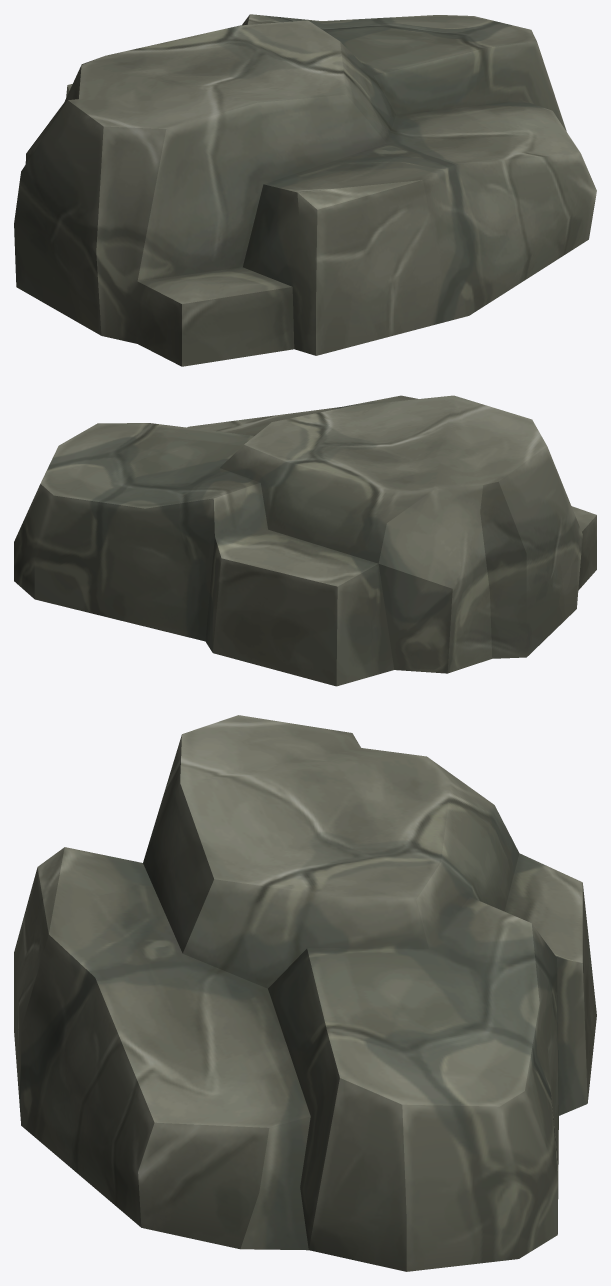
The model's file is Rock_10.fbx.
3 renders of one model, top to bottom at view 1: azimuth 30°, elevation 25°; view 2: azimuth 150°, elevation 25°; view 3: azimuth 270°, elevation 25°, orthographic. The views are drawn at different scales.
Visible parts, largest first — view 1: polySurface564; view 2: polySurface564; view 3: polySurface564.
Part boxes in pixels (x1,y1,x2,y2): polySurface564: [14, 14, 596, 366]; polySurface564: [14, 395, 596, 686]; polySurface564: [14, 715, 596, 1271].
Bounding box in the file's own units: 148 × 51.98 × 109.
1 material, 1 textured.
